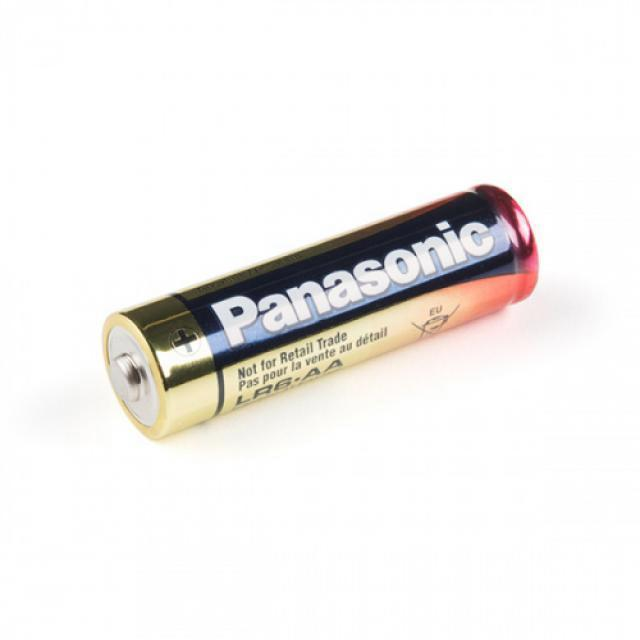battery: (102, 184, 539, 442)
